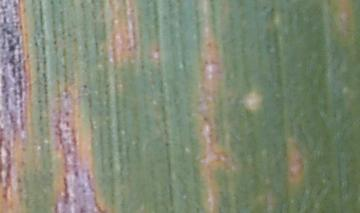tarspot: (8, 54, 17, 78), (7, 44, 17, 52), (201, 114, 209, 122), (194, 205, 201, 213), (80, 83, 88, 90), (77, 206, 85, 213), (64, 110, 70, 118), (64, 120, 70, 127)
